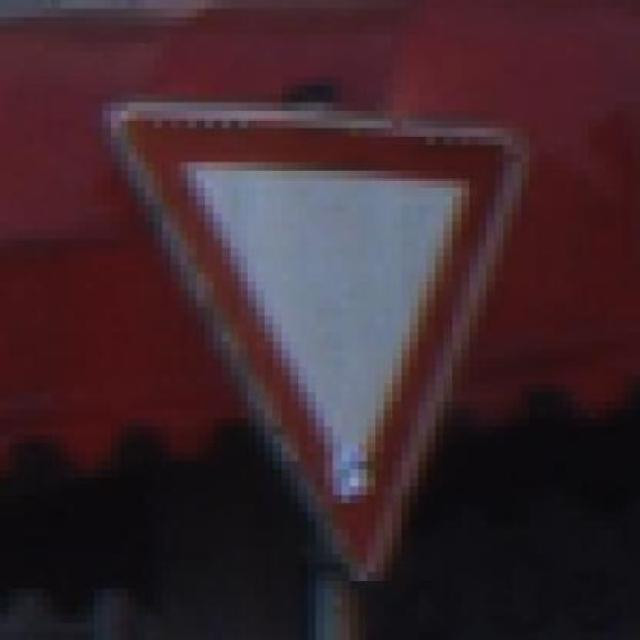Give Way: (68, 68, 563, 589)
